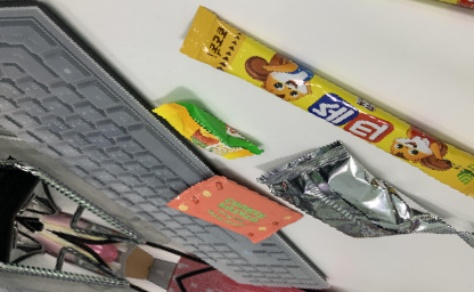br: (244, 112, 472, 272)
jeli: (141, 87, 274, 174)
jt: (164, 4, 474, 200)
pota: (160, 158, 310, 260)
